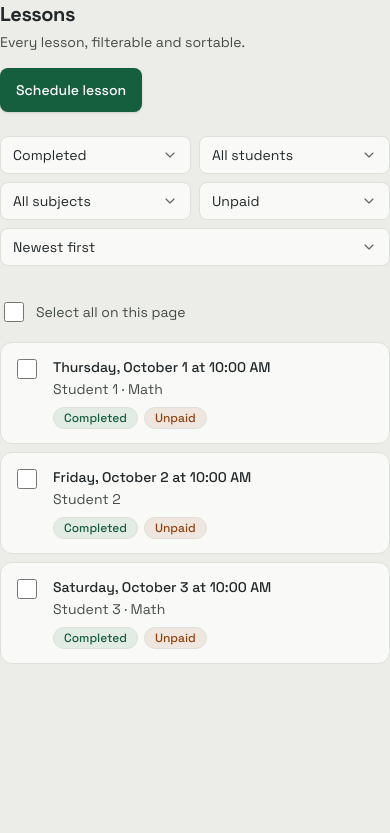
Test: LessonsListView selection › shows a count and the bulk bar when one row is selected
Click the checkbox named "Select lesson on": (27, 369) x1=17 y1=359 x2=37 y2=379
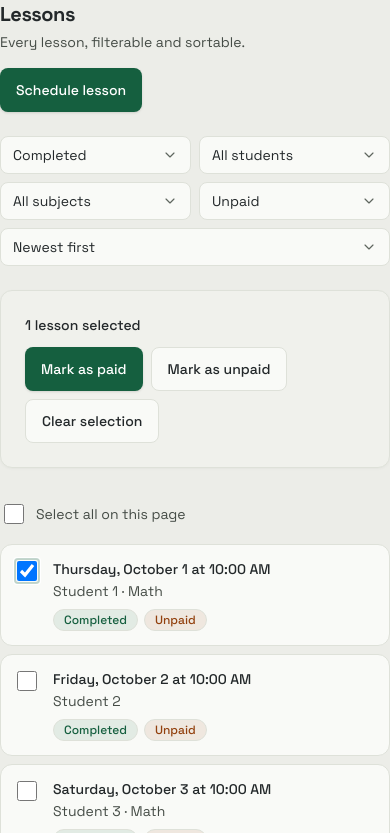
Check: the text "1 lesson selected" is shown, box x1=25 y1=316 x2=140 y2=334
Check: the button "Mark as paid" is shown, box x1=25 y1=347 x2=143 y2=391
Check: the button "Mark as unpaid" is shown, box x1=151 y1=347 x2=287 y2=391
